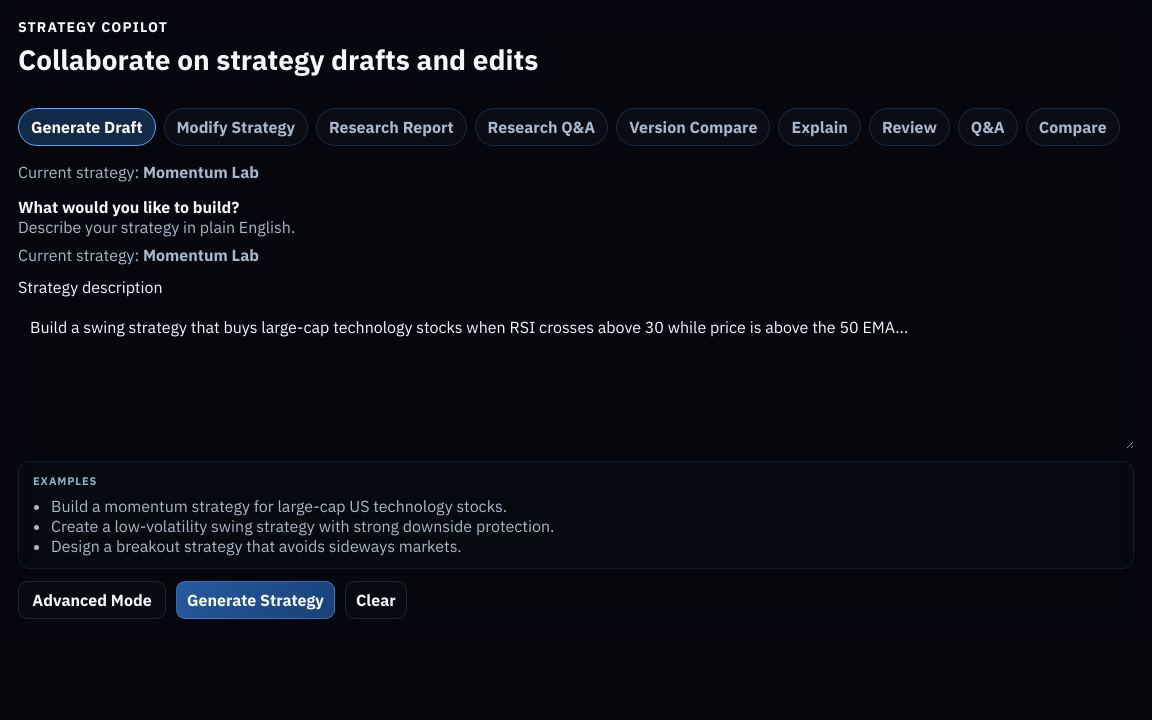
StrategyCopilotPanel › renders compact evidence cards for advisory responses
What coordinates should you click on to do the following:
click the button "Research Report"
I would click on:
 (391, 127)
Its box is x1=316 y1=108 x2=467 y2=146.
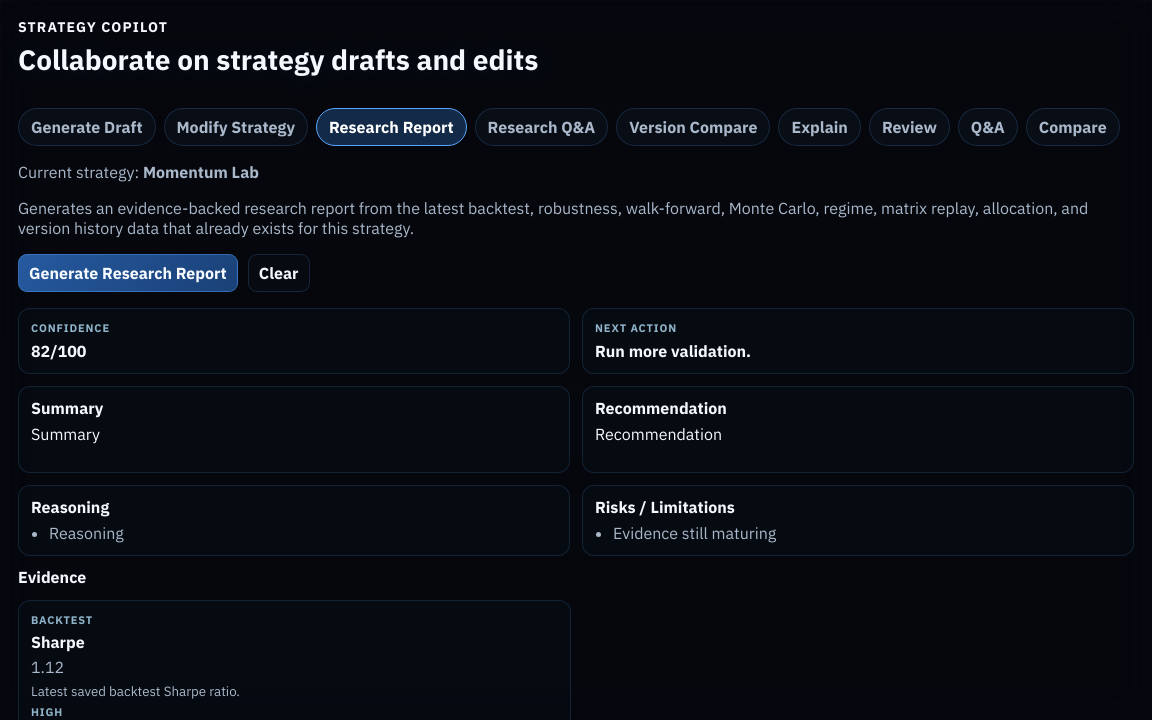
Check: the heading "Recommendation" is shown, box x1=595 y1=398 x2=727 y2=418
Check: the text "BACKTEST" is shown, box x1=31 y1=613 x2=93 y2=627
Check: the text "Sharpe" is shown, box x1=31 y1=632 x2=85 y2=652
